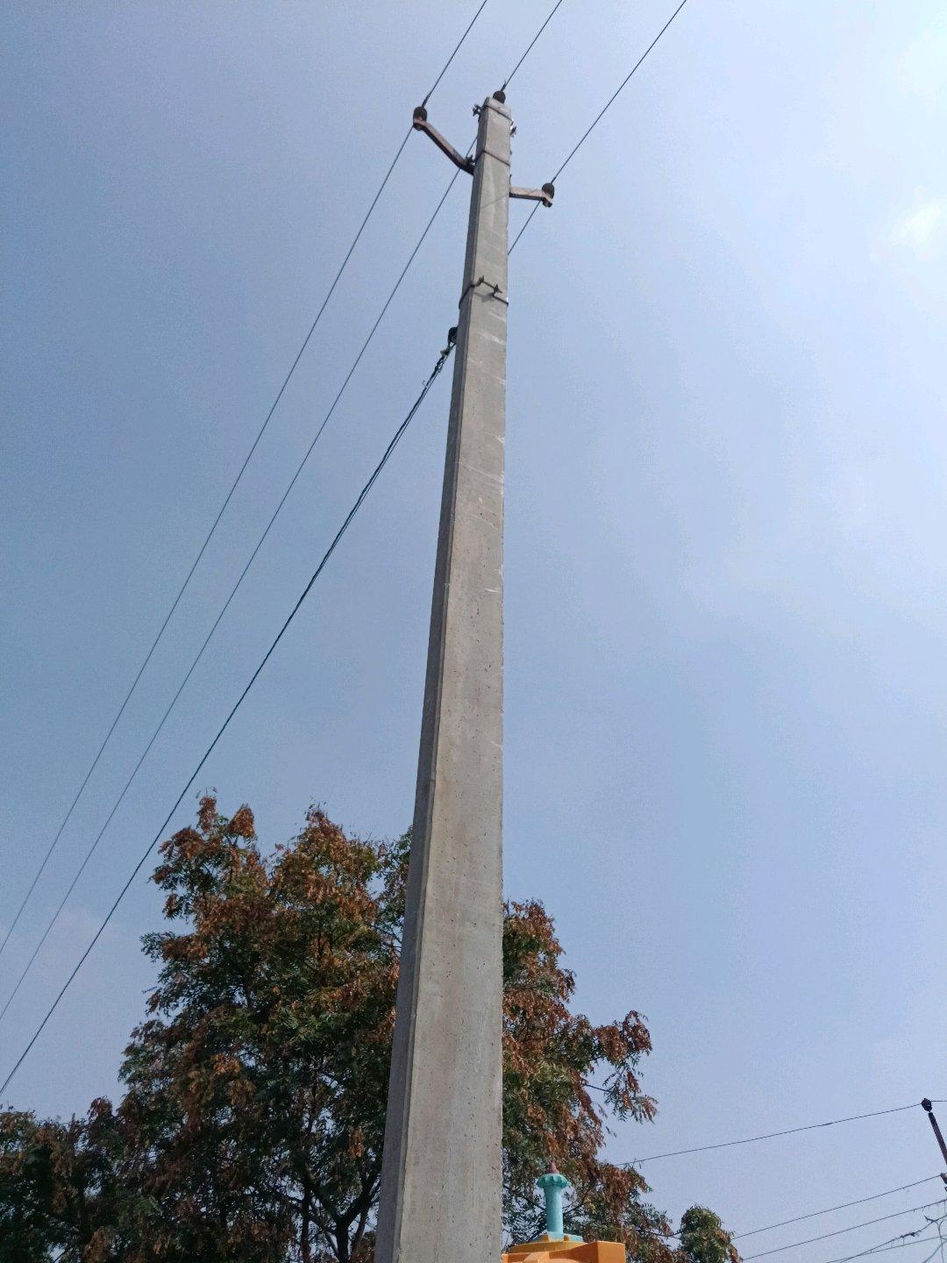{"0" "insulator", "1" "pole", "2" "crossarm", "3" "conductor", "4" "street_: (375, 89, 554, 1262), (614, 1252, 617, 1258), (570, 1239, 572, 1241)
